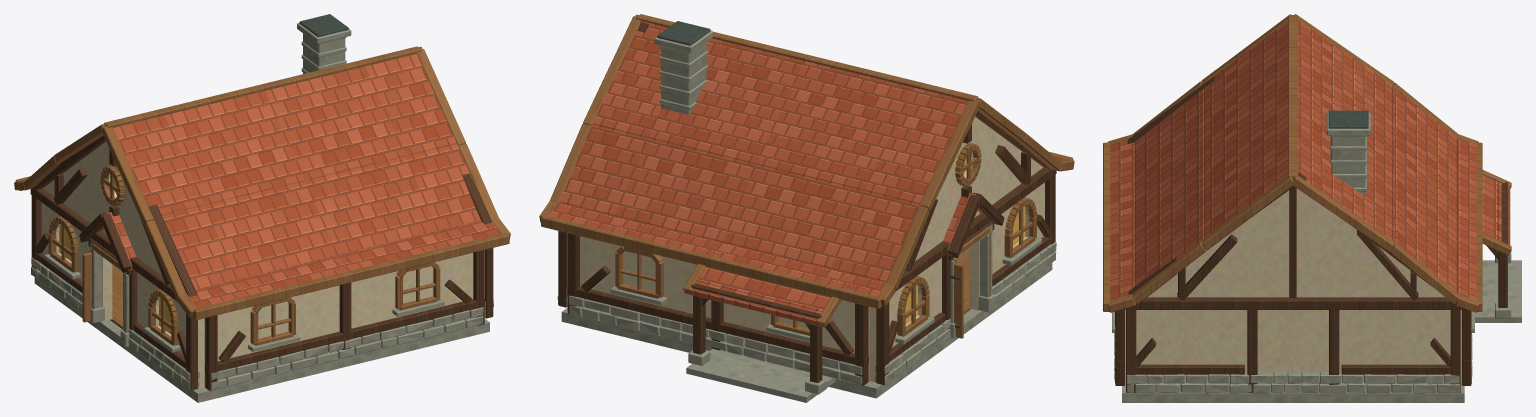
The model's file is HealingHouse_V3.fbx.
3 renders of one model, left to right at view 1: azimuth 30°, elevation 25°; view 2: azimuth 150°, elevation 25°; view 3: azimuth 270°, elevation 25°, orthographic. The views are drawn at different scales.
Visible parts, largest first — view 1: HH_V2_Roof_Main, HH_V2_Roof_Trim, HH_V2_Walls_CameraSide, HH_V2_Timber_Front, HH_V2_Timber_CameraSide, HH_V2_Stone_CameraSide, HH_V2_Foundation, HH_V2_Gable_Front, HH_V2_Walls_Front, HH_V2_Windows_CameraSide, HH_V2_Windows_Front, HH_V2_Stone_Front (+9 smaller); view 2: HH_V2_Roof_Main, HH_V2_Roof_Trim, HH_V2_Timber_Front, HH_V2_Walls_Far, HH_V2_Timber_Far, HH_V2_Stone_Far, HH_V2_Gable_Front, HH_V2_Roof_Porch, HH_V2_Walls_Front, HH_V2_PorchFloor, HH_V2_Foundation, HH_V2_Chimney (+11 smaller); view 3: HH_V2_Roof_Main, HH_V2_Walls_Rear, HH_V2_Gable_Rear, HH_V2_Timber_Rear, HH_V2_Roof_Trim, HH_V2_Stone_Rear, HH_V2_Foundation, HH_V2_Chimney, HH_V2_PorchFloor, HH_V2_Roof_Porch, HH_V2_Timber_Porch, HH_V2_ChimneyCap (+3 smaller).
Boxes of the visible parts, x1,y1,x2,y2 form: HH_V2_Roof_Main: [24, 54, 501, 307]; HH_V2_Roof_Trim: [14, 46, 510, 319]; HH_V2_Walls_CameraSide: [204, 253, 473, 386]; HH_V2_Timber_Front: [30, 135, 197, 390]; HH_V2_Timber_CameraSide: [205, 250, 484, 390]; HH_V2_Stone_CameraSide: [211, 307, 483, 390]; HH_V2_Foundation: [34, 277, 489, 402]; HH_V2_Gable_Front: [43, 141, 161, 275]; HH_V2_Walls_Front: [41, 202, 204, 387]; HH_V2_Windows_CameraSide: [248, 262, 444, 351]; HH_V2_Windows_Front: [44, 216, 180, 352]; HH_V2_Stone_Front: [31, 257, 199, 390]; HH_V2_Roof_Main: [549, 21, 1063, 296]; HH_V2_Roof_Trim: [539, 14, 1074, 308]; HH_V2_Timber_Front: [876, 111, 1056, 384]; HH_V2_Walls_Far: [580, 236, 869, 380]; HH_V2_Timber_Far: [567, 233, 868, 385]; HH_V2_Stone_Far: [569, 295, 862, 384]; HH_V2_Gable_Front: [915, 116, 1043, 260]; HH_V2_Roof_Porch: [683, 264, 841, 327]; HH_V2_Walls_Front: [869, 182, 1044, 382]; HH_V2_PorchFloor: [686, 349, 835, 402]; HH_V2_Foundation: [561, 263, 1052, 398]; HH_V2_Chimney: [654, 30, 713, 114]; HH_V2_Roof_Main: [1110, 20, 1476, 300]; HH_V2_Walls_Rear: [1136, 310, 1450, 390]; HH_V2_Gable_Rear: [1147, 188, 1444, 297]; HH_V2_Timber_Rear: [1125, 172, 1461, 392]; HH_V2_Roof_Trim: [1103, 14, 1482, 312]; HH_V2_Stone_Rear: [1126, 372, 1459, 393]; HH_V2_Foundation: [1122, 385, 1464, 402]; HH_V2_Chimney: [1326, 112, 1370, 195]; HH_V2_PorchFloor: [1475, 260, 1521, 322]; HH_V2_Roof_Porch: [1482, 170, 1511, 254]; HH_V2_Timber_Porch: [1486, 182, 1511, 318]; HH_V2_ChimneyCap: [1328, 110, 1368, 128].
Bounding box in the file's own units: 11 × 10.27 × 7.38.
